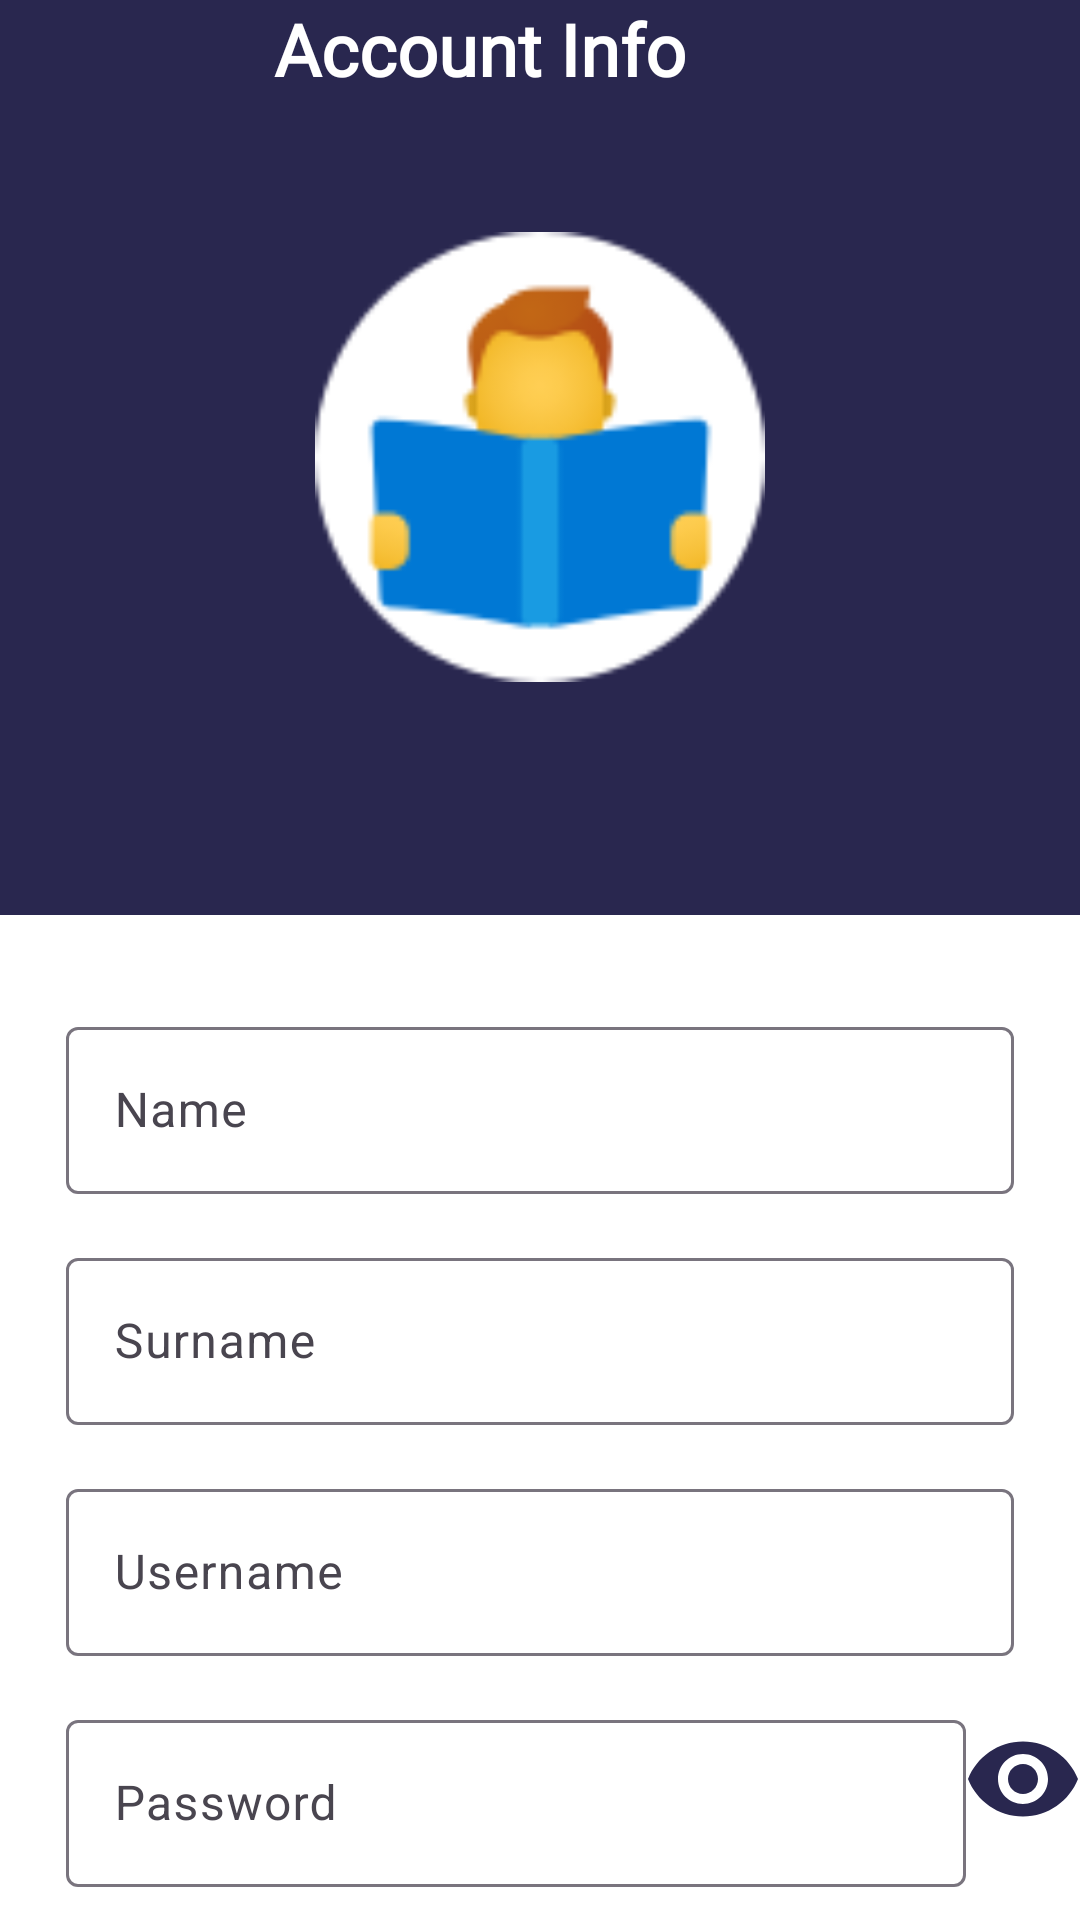

Where icons sit on this 1080px x 1920px app screen, as rect(x1, y1, x2, y2):
visibility: rect(968, 1741, 1078, 1817)
